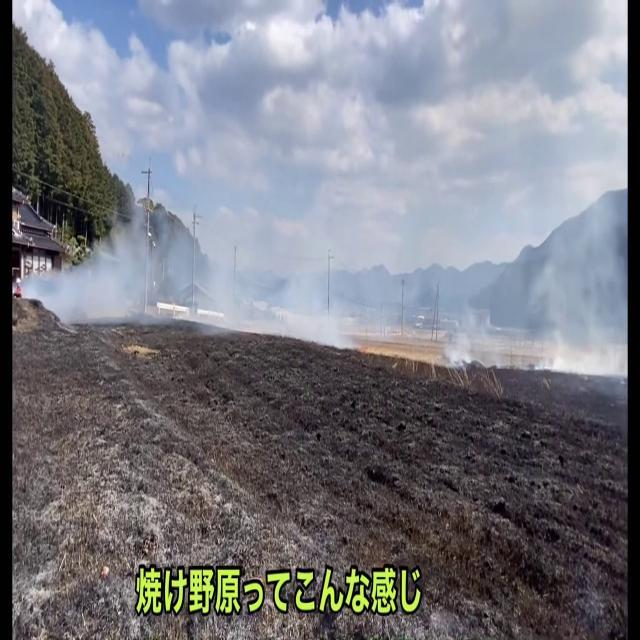Smoke: (438, 203, 628, 381), (65, 188, 211, 324)
